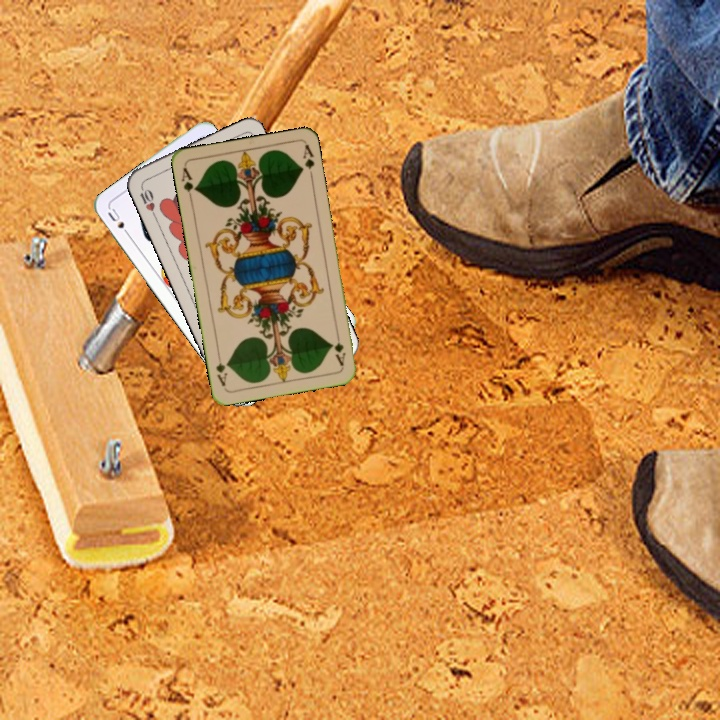GA: (178, 163, 200, 204), (329, 328, 348, 369)
H10: (136, 181, 159, 220)
SU: (104, 204, 134, 240)
